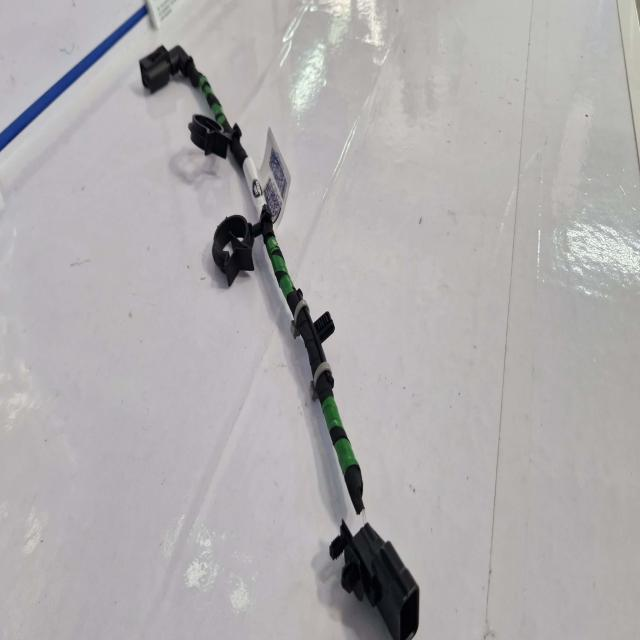AJ20_D6_Cable: (195, 77, 367, 517)
Clip: (212, 216, 262, 285), (189, 114, 246, 165)
Connector: (330, 521, 419, 619), (140, 45, 200, 94), (314, 312, 335, 343), (291, 323, 299, 336)
Info: (259, 127, 291, 229)
strap: (314, 361, 332, 385), (294, 298, 309, 325)
